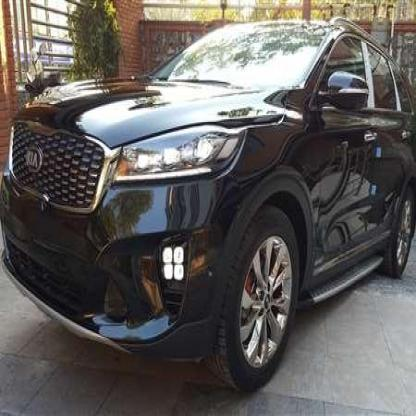Car: (0, 0, 416, 379)
